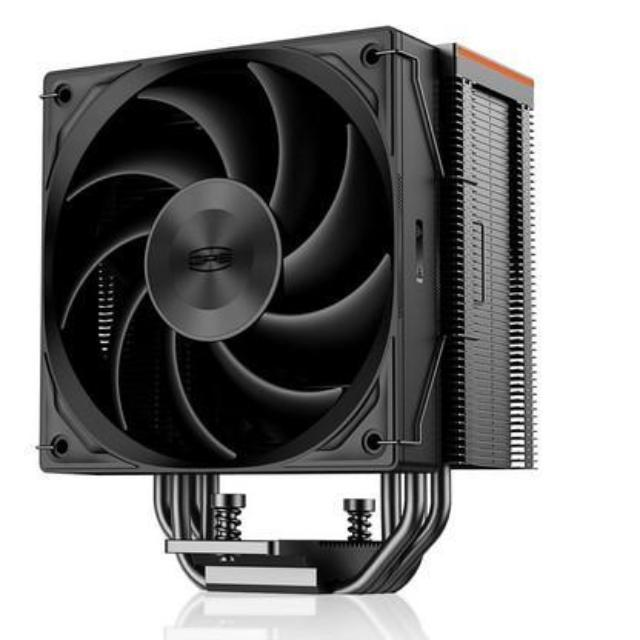CPU_Fan: (40, 20, 538, 598)
